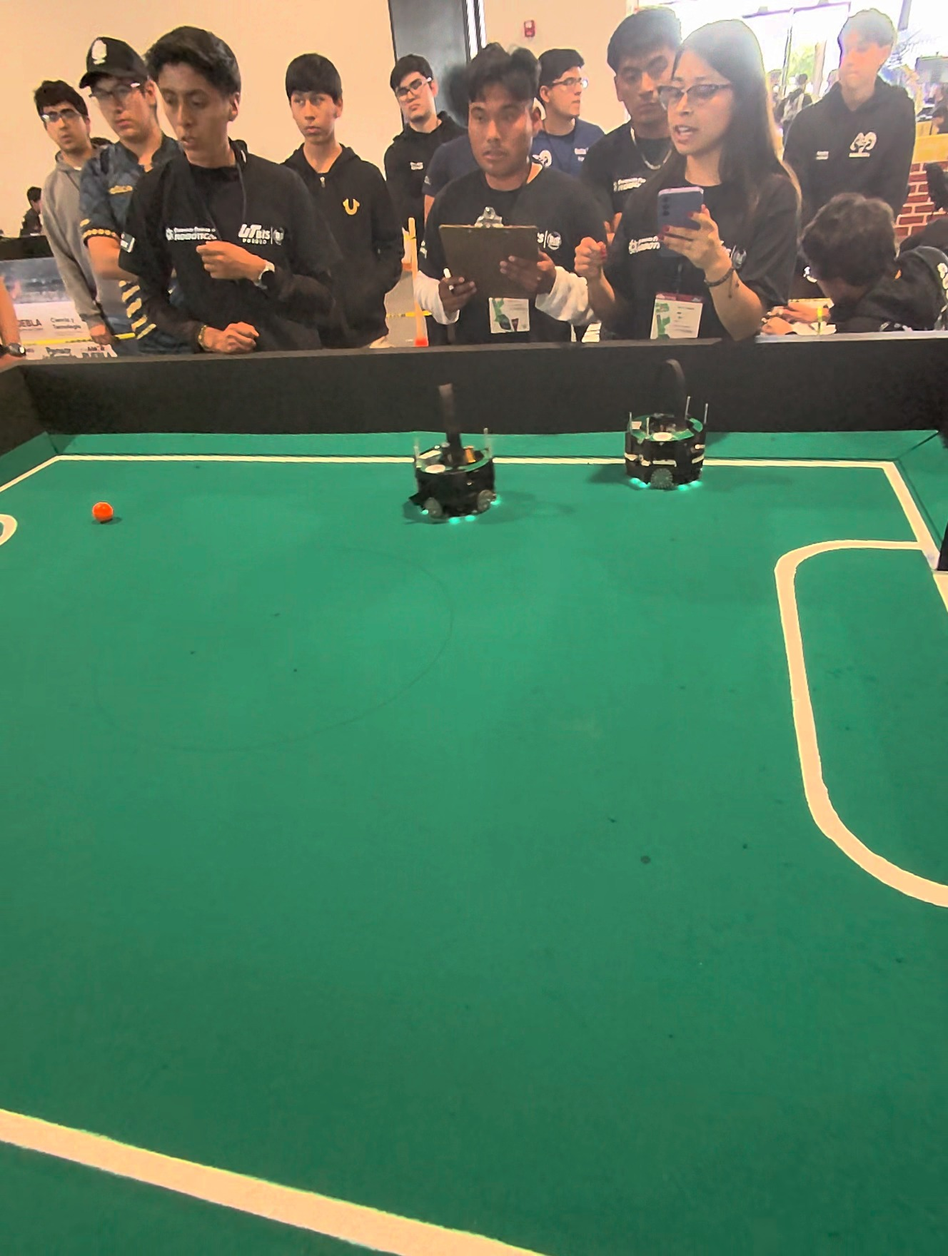Robot: (400, 372, 504, 540), (619, 346, 716, 508)
pelota: (86, 495, 126, 536)
